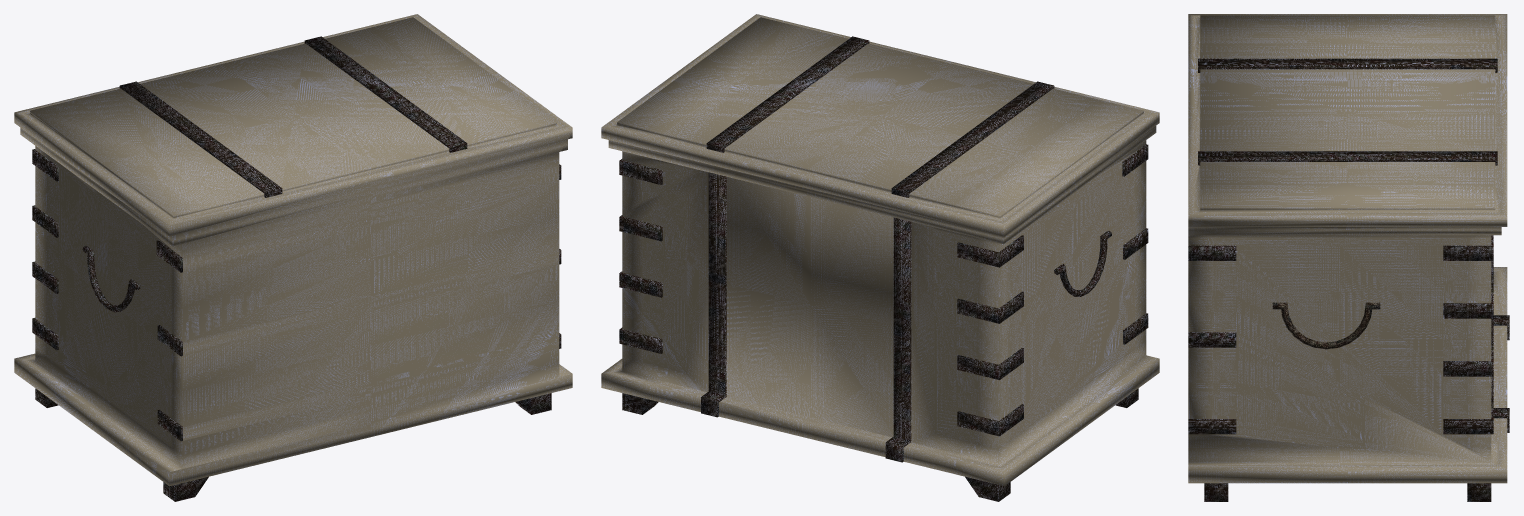
Rendered from ACC_TRUNK_2.fbx.
The picture shows the model from 3 angles, left to right: view 1: azimuth 30°, elevation 25°; view 2: azimuth 150°, elevation 25°; view 3: azimuth 270°, elevation 25°; orthographic projection. The views are drawn at different scales.
Visible parts, largest first — view 1: Group3, Group2, handle2; view 2: Group3, Group2, handle2; view 3: Group3, Group2, handle1.
Part boxes in pixels (x1,y1,x2,y2): Group3: [14, 14, 572, 486]; Group2: [32, 36, 561, 501]; handle2: [82, 245, 140, 312]; Group3: [601, 14, 1159, 486]; Group2: [619, 36, 1148, 501]; handle2: [1054, 230, 1111, 296]; Group3: [1188, 14, 1507, 483]; Group2: [1188, 58, 1509, 501]; handle1: [1272, 302, 1380, 349].
Bounding box in the file's own units: 23.62 × 16.26 × 15.87.
